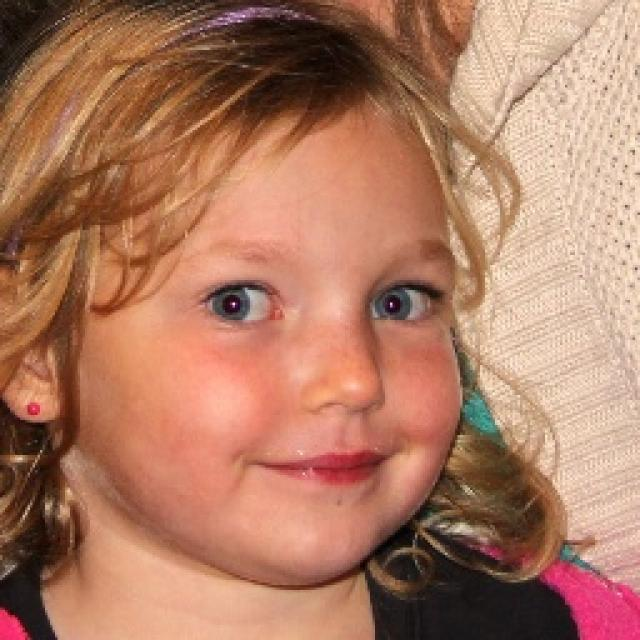earlobe: (18, 375, 66, 427)
eye: (197, 280, 281, 322), (364, 282, 438, 324)
nose: (301, 395, 407, 451)
